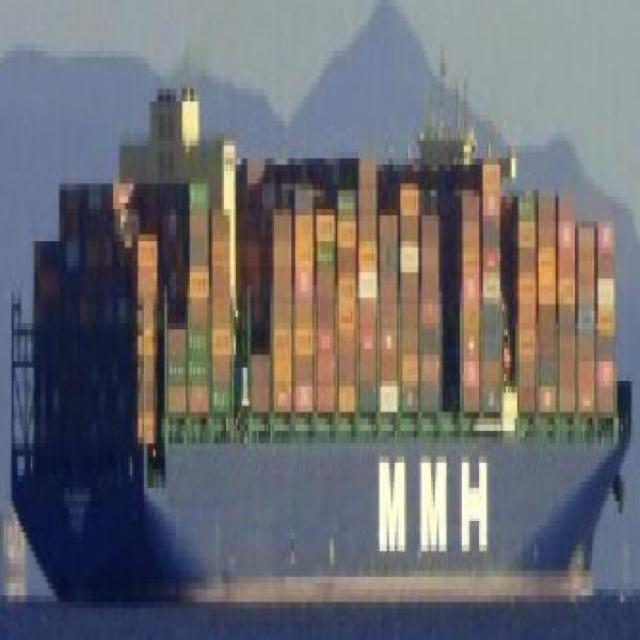Container Ship: (8, 43, 634, 604)
